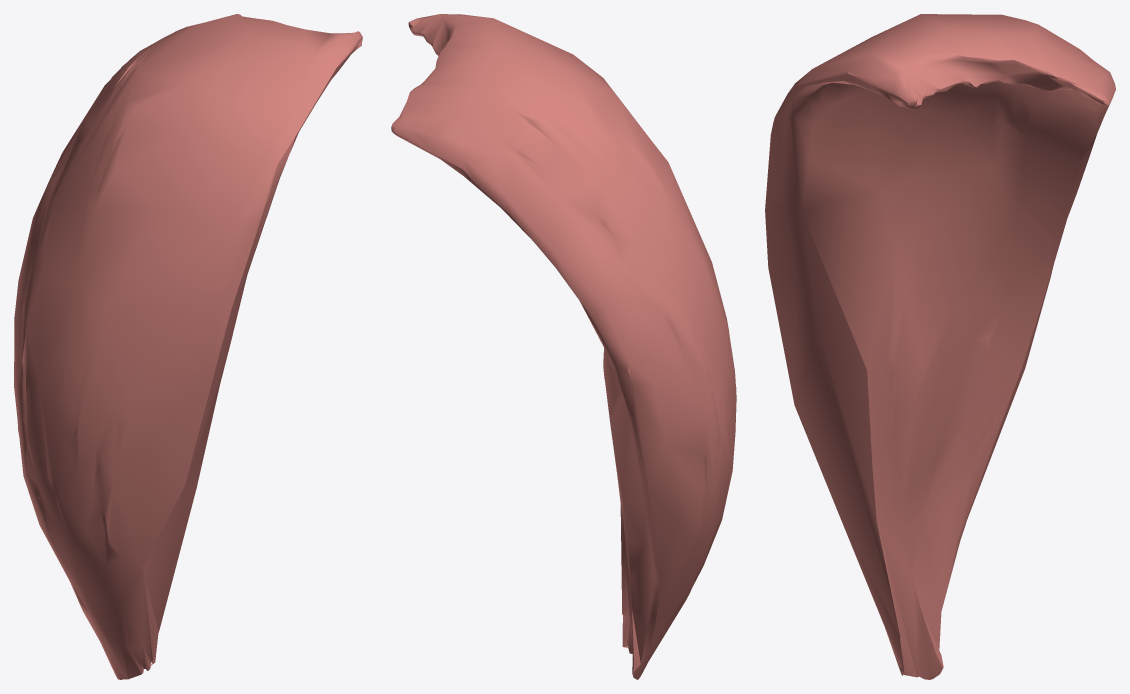
Rendered from fma34682_fj1467.glb.
The picture shows the model from 3 angles, left to right: view 1: azimuth 30°, elevation 25°; view 2: azimuth 150°, elevation 25°; view 3: azimuth 270°, elevation 25°; orthographic projection. The views are drawn at different scales.
Parts seen in each view (by area): view 1: FMA34682_FJ1467; view 2: FMA34682_FJ1467; view 3: FMA34682_FJ1467.
Boxes of the visible parts, <box> form: FMA34682_FJ1467: <box>14,14,362,679</box>; FMA34682_FJ1467: <box>391,14,736,679</box>; FMA34682_FJ1467: <box>765,14,1115,679</box>.
Size of the model in its own units: 0.0806 by 0.1441 by 0.0625.
